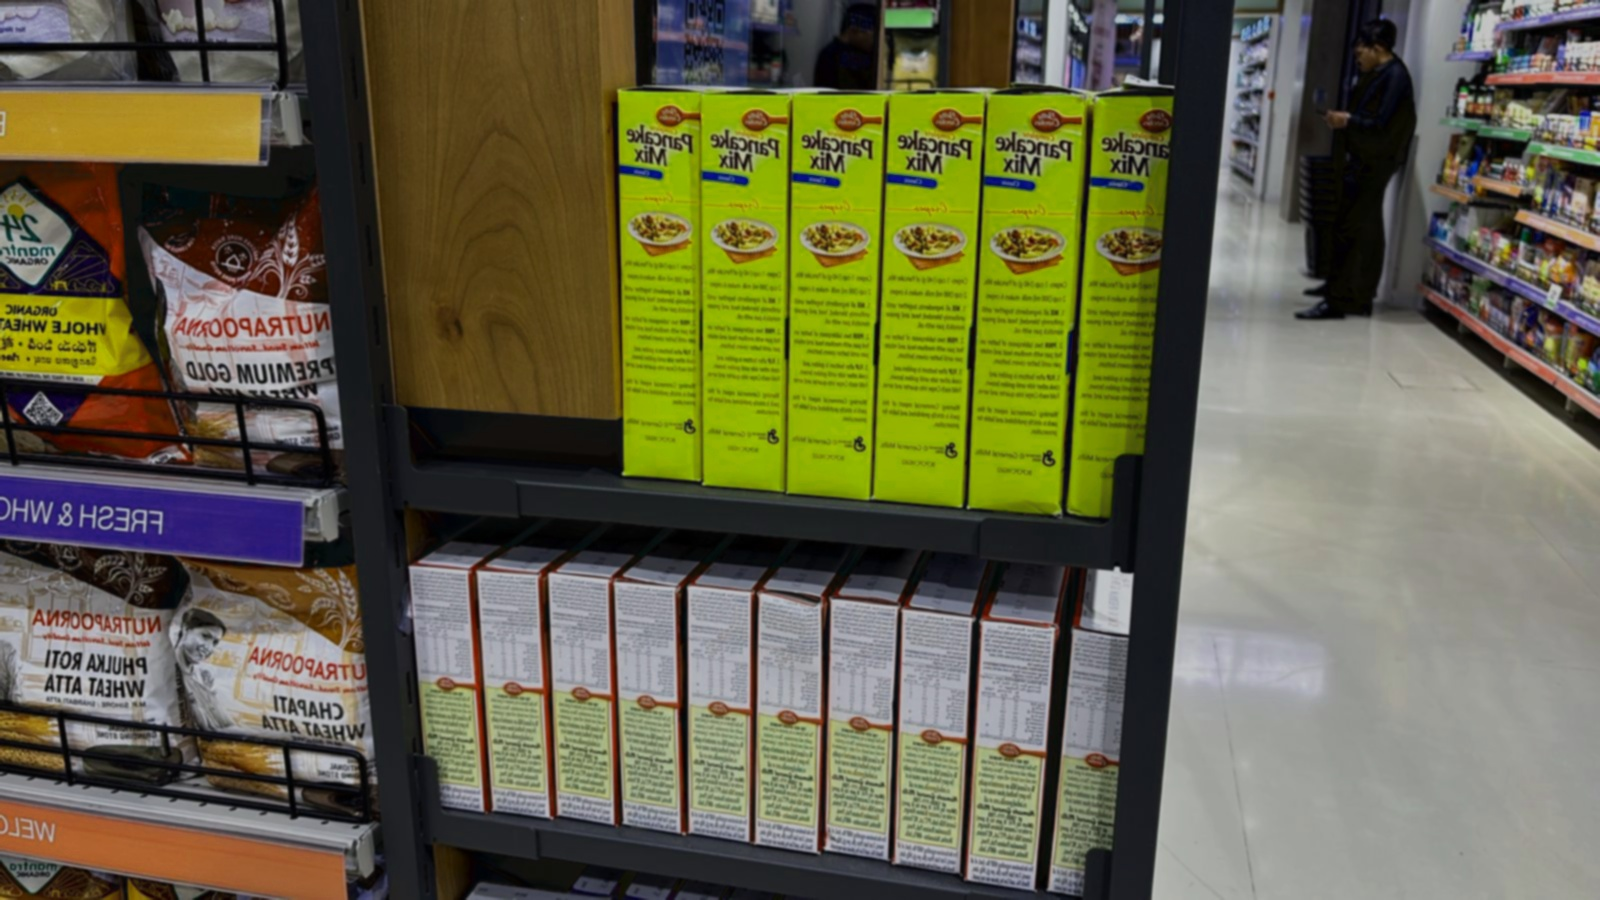Betty Crocker Pancake Mix: (1063, 86, 1184, 524), (984, 93, 1085, 530), (878, 89, 980, 520), (609, 88, 707, 492), (788, 90, 878, 512), (701, 91, 787, 500)
